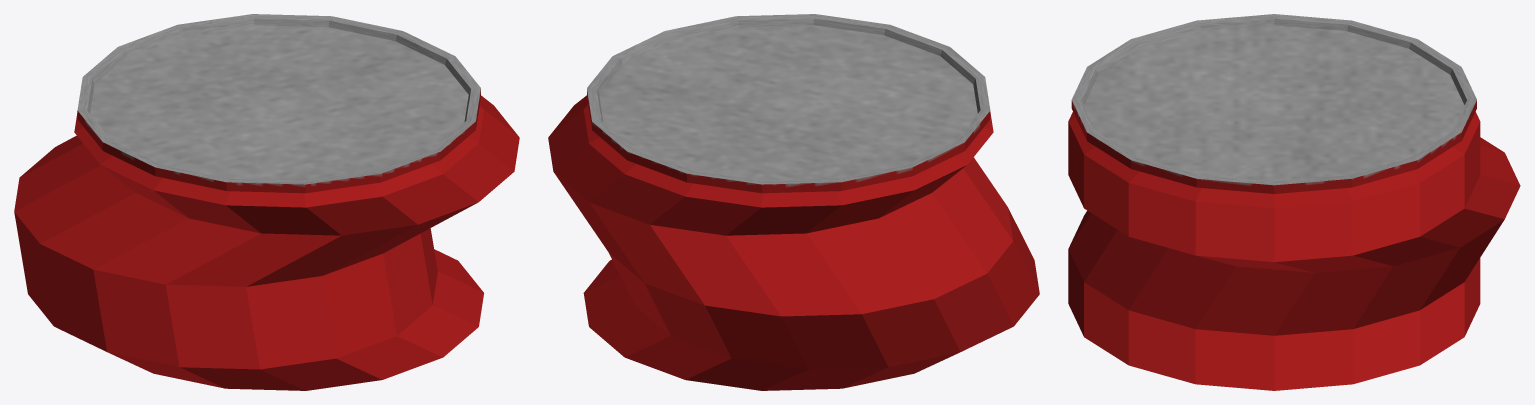
The model's file is drink_can_crushed_fin.fbx.
The picture shows the model from 3 angles, left to right: view 1: azimuth 30°, elevation 25°; view 2: azimuth 150°, elevation 25°; view 3: azimuth 270°, elevation 25°; orthographic projection.
Parts seen in each view (by area): view 1: Cylinder; view 2: Cylinder; view 3: Cylinder.
Part boxes in pixels (x1,y1,x2,y2): Cylinder: [14, 14, 519, 390]; Cylinder: [548, 14, 1039, 390]; Cylinder: [1068, 14, 1520, 390].
Bounding box in the file's own units: 94.97 × 44.11 × 84.86.
